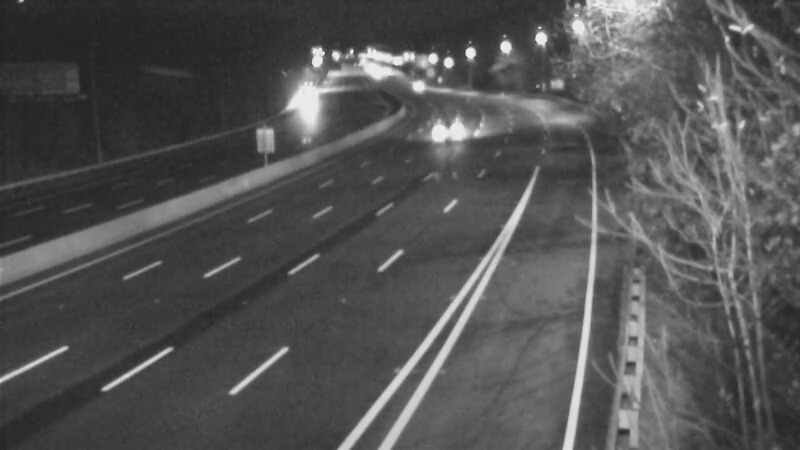vehicle: (389, 62, 439, 112), (417, 105, 467, 155)
